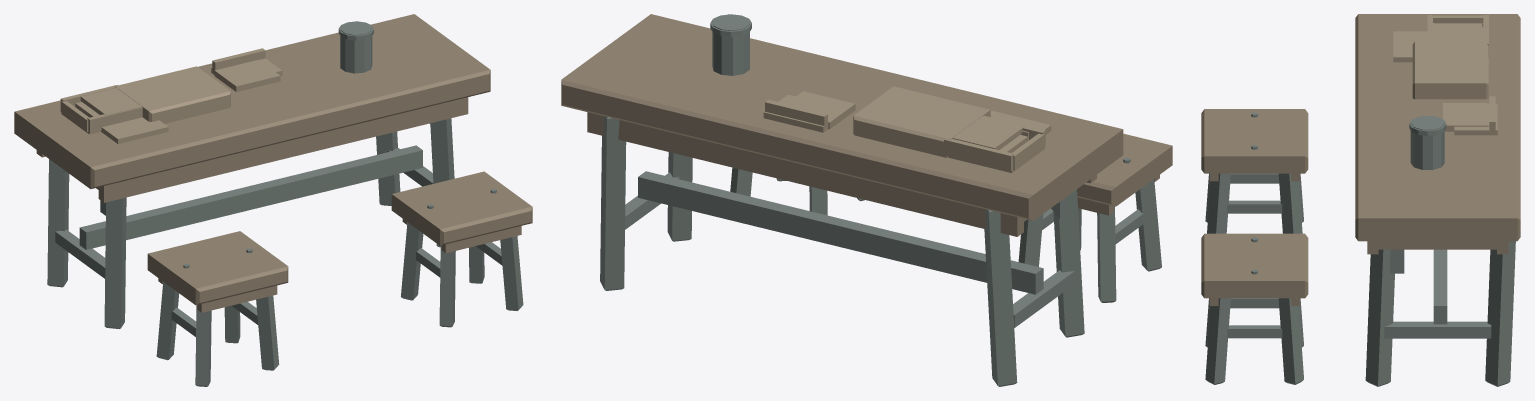
Rendered from BreakProps.fbx.
3 views of the same model, side by side, from view 1: azimuth 30°, elevation 25°; view 2: azimuth 150°, elevation 25°; view 3: azimuth 270°, elevation 25° (orthographic). The views are drawn at different scales.
Parts seen in each view (by area): view 1: TableTop__Timber, TableLegs__Steel, StoolSeats__Timber, StoolLegs__Steel, EmptyLunchWrapper__Cardboard, RoomVariant2__Cardboard, RoomVariant0__Cardboard, TinCup__Steel, RoomVariant1__Cardboard; view 2: TableTop__Timber, TableLegs__Steel, StoolLegs__Steel, EmptyLunchWrapper__Cardboard, StoolSeats__Timber, RoomVariant2__Cardboard, TinCup__Steel, RoomVariant1__Cardboard, RoomVariant0__Cardboard; view 3: TableTop__Timber, StoolSeats__Timber, TableLegs__Steel, StoolLegs__Steel, EmptyLunchWrapper__Cardboard, RoomVariant2__Cardboard, TinCup__Steel, RoomVariant0__Cardboard, RoomVariant1__Cardboard.
Boxes of the visible parts, left/top/right/bottom form: TableTop__Timber: left=14, top=14, right=490, bottom=202; TableLegs__Steel: left=47, top=118, right=454, bottom=328; StoolSeats__Timber: left=147, top=171, right=532, bottom=312; StoolLegs__Steel: left=156, top=222, right=523, bottom=386; EmptyLunchWrapper__Cardboard: left=114, top=66, right=230, bottom=123; RoomVariant2__Cardboard: left=75, top=59, right=280, bottom=131; RoomVariant0__Cardboard: left=101, top=48, right=282, bottom=143; TinCup__Steel: left=183, top=21, right=496, bottom=268; RoomVariant1__Cardboard: left=60, top=85, right=142, bottom=134; TableTop__Timber: left=561, top=14, right=1123, bottom=236; TableLegs__Steel: left=600, top=116, right=1084, bottom=386; StoolLegs__Steel: left=730, top=167, right=1161, bottom=302; EmptyLunchWrapper__Cardboard: left=853, top=86, right=990, bottom=157; StoolSeats__Timber: left=1077, top=133, right=1172, bottom=215; RoomVariant2__Cardboard: left=786, top=91, right=1027, bottom=152; TinCup__Steel: left=710, top=14, right=1130, bottom=163; RoomVariant1__Cardboard: left=944, top=115, right=1045, bottom=172; RoomVariant0__Cardboard: left=763, top=94, right=1051, bottom=140; TableTop__Timber: left=1355, top=14, right=1520, bottom=254; StoolSeats__Timber: left=1201, top=109, right=1308, bottom=305; TableLegs__Steel: left=1365, top=241, right=1515, bottom=386; StoolLegs__Steel: left=1205, top=173, right=1303, bottom=384; EmptyLunchWrapper__Cardboard: left=1412, top=41, right=1488, bottom=99; RoomVariant2__Cardboard: left=1429, top=23, right=1488, bottom=131; TinCup__Steel: left=1251, top=112, right=1446, bottom=274; RoomVariant0__Cardboard: left=1393, top=23, right=1497, bottom=135; RoomVariant1__Cardboard: left=1427, top=15, right=1488, bottom=57.
Size of what is drawn, in the model's own units: 1.9 by 1 by 1.26.
